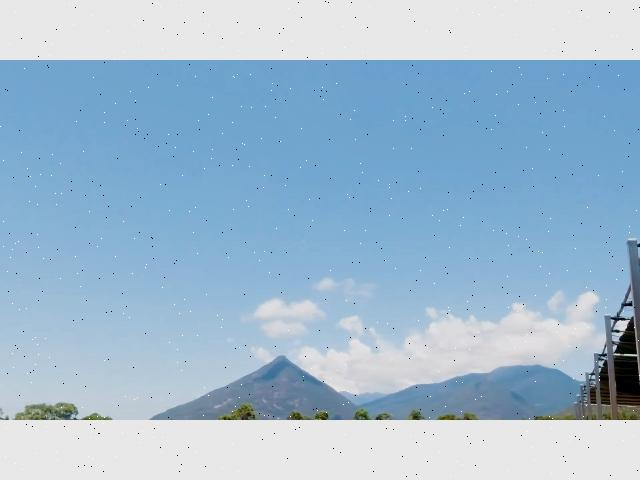Anti-Drone: (290, 231, 320, 249)
